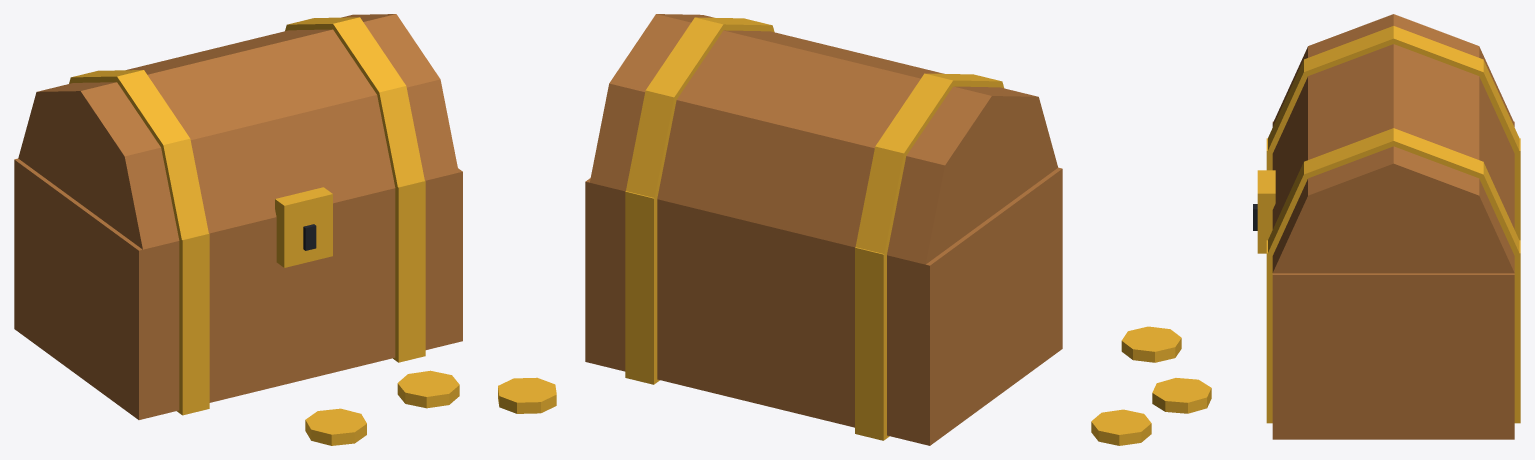
The model's file is TreasureChest.fbx.
The picture shows the model from 3 angles, left to right: view 1: azimuth 30°, elevation 25°; view 2: azimuth 150°, elevation 25°; view 3: azimuth 270°, elevation 25°; orthographic projection. The views are drawn at different scales.
Visible parts, largest first — view 1: Treasure Chest; view 2: Treasure Chest; view 3: Treasure Chest.
Boxes of the visible parts, left/top/right/bottom form: Treasure Chest: left=14, top=14, right=556, bottom=445; Treasure Chest: left=585, top=14, right=1062, bottom=445; Treasure Chest: left=1091, top=14, right=1520, bottom=445.
Size of the model in its own units: 3.75 by 3.09 by 4.26.
Materials: 1 (1 with a texture image).
